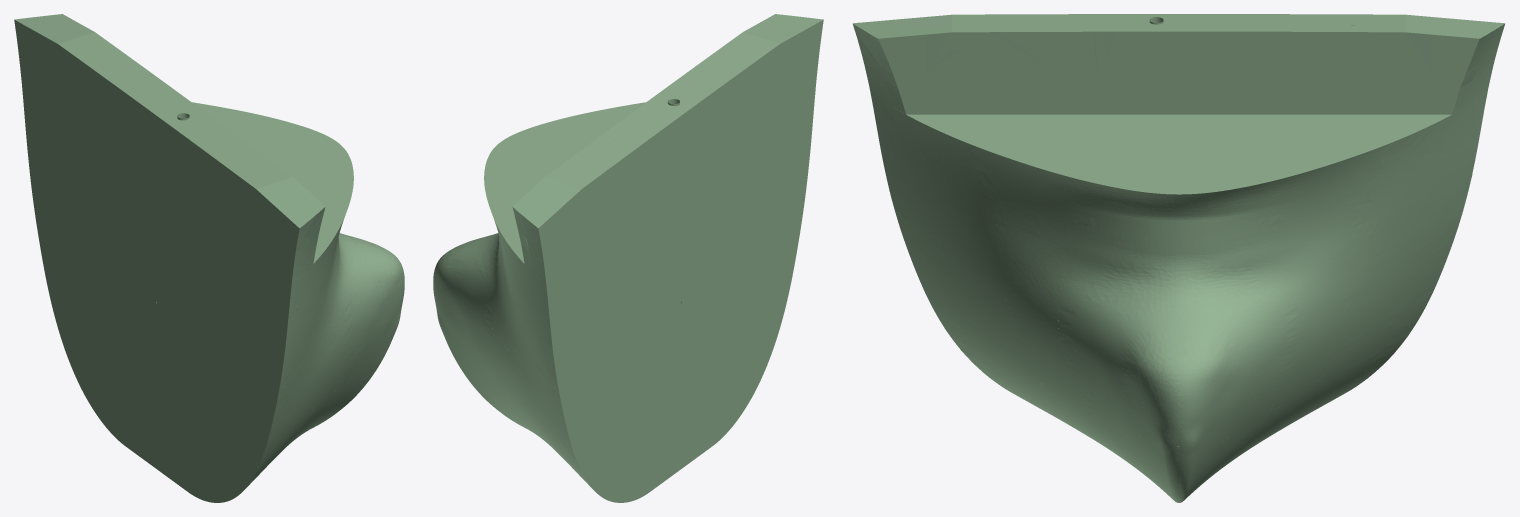
The model's file is FORE_PEAK_TK.glb.
3 renders of one model, left to right at view 1: azimuth 30°, elevation 25°; view 2: azimuth 150°, elevation 25°; view 3: azimuth 270°, elevation 25°, orthographic. The views are drawn at different scales.
Parts seen in each view (by area): view 1: PL_TankTopxFPTS_003005-12.5_NVA_1993, PL_TransBHDxBHD99P_001001-22_NVA_1993, PL_TransBHDxBHD99P_002001-21_NVA_1993, PL_SideTransBHDxBHD99S_007002-16_NVA_1993, PL_TransBHDxBHD99S_001002-22_NVA_1993, PL_SideTransBHDxBHD99P_008001-16_NVA_1993, PL_TransBHDxBHD99S_002002-21_NVA_1993, PL_SideTransBHDxBHD99S_004002-13_NVA_1993, PL_SideTransBHDxBHD99S_002002-13_NVA_1993, PL_SideTransBHDxBHD99P_005001-13_NVA_1993, PL_SideTransBHDxBHD99P_002001-13_NVA_1993, PL_UDxFPTP_010001-15.5_NVA_1993 (+117 smaller); view 2: PL_TankTopxFPTS_003005-12.5_NVA_1993, PL_TransBHDxBHD99S_001002-22_NVA_1993, PL_TransBHDxBHD99S_002002-21_NVA_1993, PL_SideTransBHDxBHD99P_008001-16_NVA_1993, PL_TransBHDxBHD99P_001001-22_NVA_1993, PL_TransBHDxBHD99P_002001-21_NVA_1993, PL_SideTransBHDxBHD99S_007002-16_NVA_1993, PL_SideTransBHDxBHD99P_005001-13_NVA_1993, PL_SideTransBHDxBHD99P_002001-13_NVA_1993, PL_SideTransBHDxBHD99S_004002-13_NVA_1993, PL_UDxFPTP_010001-15.5_NVA_1993, PL_SideTransBHDxBHD99S_002002-13_NVA_1993 (+115 smaller); view 3: PL_SideTransxFR100P_012001-13_NVA_1993, PL_SideTransxFR100S_014001-13_NVA_1993, PL_TankTopxFPTS_001007-12.5_NVA_1993, PL_TankTopxFPTP_001008-12.5_NVA_1993, PL_SideTransxFR100P_013002-13_NVA_1993, PL_SideTransxFR100S_013002-13_NVA_1993, PL_TransxFR100P_019001-13_NVA_1993, PL_TransxFR100S_019002-13_NVA_1993, PL_OuterShellxFPTP_005004-20_NVA_1993, PL_OuterShellxFPTS_005004-20_NVA_1993, PL_OuterShellxFPTP_006007-20_NVA_1993, PL_OuterShellxFPTS_006007-20_NVA_1993 (+100 smaller).
Boxes of the visible parts, x1=… form: PL_TankTopxFPTS_003005-12.5_NVA_1993: x1=293, y1=142, x2=353, y2=194; PL_TransBHDxBHD99P_001001-22_NVA_1993: x1=118, y1=406, x2=156, y2=468; PL_TransBHDxBHD99P_002001-21_NVA_1993: x1=118, y1=370, x2=156, y2=433; PL_SideTransBHDxBHD99S_007002-16_NVA_1993: x1=209, y1=295, x2=247, y2=357; PL_TransBHDxBHD99S_001002-22_NVA_1993: x1=157, y1=434, x2=194, y2=496; PL_SideTransBHDxBHD99P_008001-16_NVA_1993: x1=66, y1=189, x2=103, y2=252; PL_TransBHDxBHD99S_002002-21_NVA_1993: x1=157, y1=398, x2=194, y2=461; PL_SideTransBHDxBHD99S_004002-13_NVA_1993: x1=209, y1=225, x2=247, y2=286; PL_SideTransBHDxBHD99S_002002-13_NVA_1993: x1=209, y1=155, x2=247, y2=216; PL_SideTransBHDxBHD99P_005001-13_NVA_1993: x1=66, y1=119, x2=103, y2=181; PL_SideTransBHDxBHD99P_002001-13_NVA_1993: x1=66, y1=50, x2=103, y2=110; PL_UDxFPTP_010001-15.5_NVA_1993: x1=66, y1=42, x2=139, y2=86; PL_TankTopxFPTS_003005-12.5_NVA_1993: x1=501, y1=109, x2=602, y2=152; PL_TransBHDxBHD99S_001002-22_NVA_1993: x1=681, y1=406, x2=719, y2=468; PL_TransBHDxBHD99S_002002-21_NVA_1993: x1=681, y1=370, x2=719, y2=433; PL_SideTransBHDxBHD99P_008001-16_NVA_1993: x1=590, y1=295, x2=628, y2=357; PL_TransBHDxBHD99P_001001-22_NVA_1993: x1=643, y1=434, x2=680, y2=496; PL_TransBHDxBHD99P_002001-21_NVA_1993: x1=643, y1=398, x2=680, y2=461; PL_SideTransBHDxBHD99S_007002-16_NVA_1993: x1=734, y1=189, x2=771, y2=252; PL_SideTransBHDxBHD99P_005001-13_NVA_1993: x1=590, y1=225, x2=628, y2=286; PL_SideTransBHDxBHD99P_002001-13_NVA_1993: x1=590, y1=155, x2=628, y2=216; PL_SideTransBHDxBHD99S_004002-13_NVA_1993: x1=734, y1=119, x2=771, y2=181; PL_UDxFPTP_010001-15.5_NVA_1993: x1=566, y1=138, x2=640, y2=182; PL_SideTransBHDxBHD99S_002002-13_NVA_1993: x1=734, y1=50, x2=771, y2=110; PL_SideTransxFR100P_012001-13_NVA_1993: x1=1299, y1=32, x2=1432, y2=73; PL_SideTransxFR100S_014001-13_NVA_1993: x1=925, y1=32, x2=1058, y2=73; PL_TankTopxFPTS_001007-12.5_NVA_1993: x1=894, y1=108, x2=1105, y2=141; PL_TankTopxFPTP_001008-12.5_NVA_1993: x1=1252, y1=114, x2=1451, y2=141; PL_SideTransxFR100P_013002-13_NVA_1993: x1=1299, y1=88, x2=1432, y2=114; PL_SideTransxFR100S_013002-13_NVA_1993: x1=925, y1=88, x2=1058, y2=114; PL_TransxFR100P_019001-13_NVA_1993: x1=1179, y1=31, x2=1252, y2=73; PL_TransxFR100S_019002-13_NVA_1993: x1=1105, y1=31, x2=1178, y2=73; PL_OuterShellxFPTP_005004-20_NVA_1993: x1=1357, y1=188, x2=1447, y2=264; PL_OuterShellxFPTS_005004-20_NVA_1993: x1=910, y1=188, x2=1000, y2=264; PL_OuterShellxFPTP_006007-20_NVA_1993: x1=1369, y1=149, x2=1455, y2=221; PL_OuterShellxFPTS_006007-20_NVA_1993: x1=902, y1=149, x2=988, y2=221.
Bounding box in the file's own units: 21.78 × 30.18 × 43.8.
